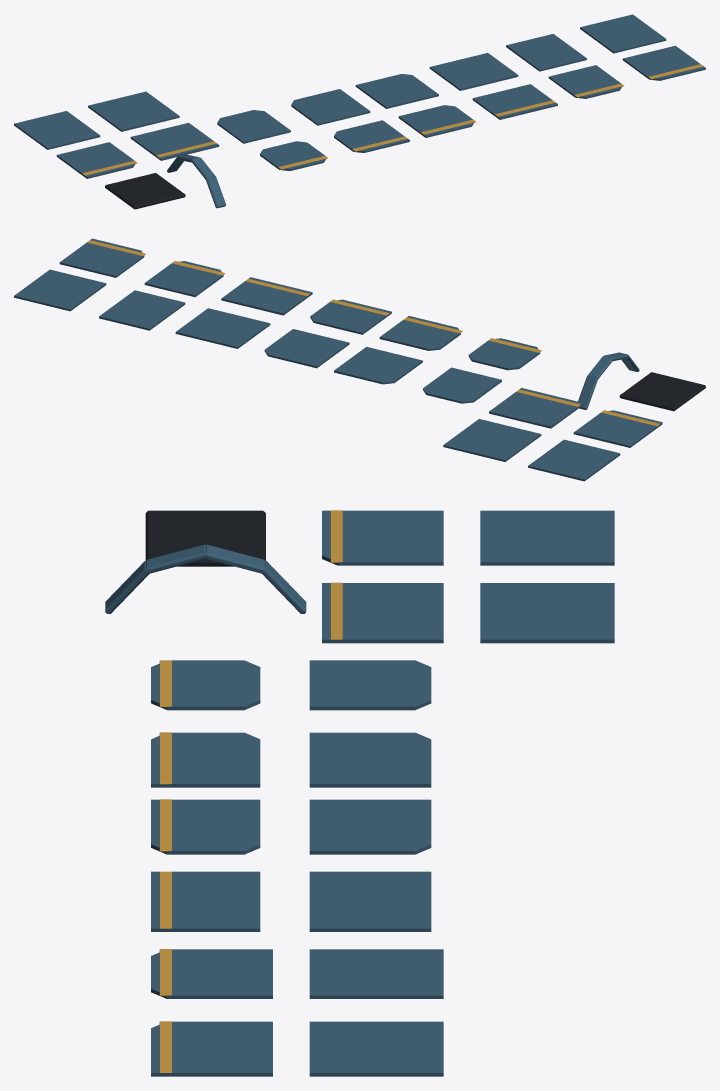
The model's file is R4H_HullKit.glb.
The picture shows the model from 3 angles, top to bottom: view 1: azimuth 30°, elevation 25°; view 2: azimuth 150°, elevation 25°; view 3: azimuth 270°, elevation 25°; orthographic projection. The views are drawn at different scales.
Visible parts, largest first — view 1: plate_15, plate_11, plate_07, plate_13, plate_14, plate_03, plate_05, plate_06, plate_10, plate_09, plate_12, gasket (+6 smaller); view 2: plate_15, plate_07, plate_11, plate_13, plate_14, plate_03, plate_06, plate_09, plate_05, plate_10, plate_12, gasket (+6 smaller); view 3: plate_15, plate_14, plate_13, plate_11, plate_07, plate_10, plate_09, plate_05, plate_06, plate_12, plate_03, plate_08 (+6 smaller).
Part boxes in pixels (x1,y1,x2,y2): plate_15: (88,91,179,131); plate_11: (429,53,518,90); plate_07: (130,122,219,160); plate_13: (580,14,666,53); plate_14: (14,111,100,149); plate_03: (472,84,557,119); plate_05: (622,45,705,80); plate_06: (56,142,137,178); plate_10: (355,74,438,108); plate_09: (291,89,370,125); plate_12: (506,34,586,71); gasket: (105,173,185,209); plate_15: (443,419,541,461); plate_07: (489,388,583,428); plate_11: (175,308,270,348); plate_13: (14,269,106,311); plate_14: (528,439,620,481); plate_03: (221,277,312,315); plate_06: (573,410,662,447); plate_09: (334,347,422,384); plate_05: (59,238,145,277); plate_10: (264,329,349,368); plate_12: (99,290,185,330); gasket: (619,372,705,411); plate_15: (480,583,614,643); plate_14: (480,510,614,565); plate_13: (309,1021,443,1076); plate_11: (309,871,431,931); plate_07: (322,582,443,643); plate_10: (309,799,431,854); plate_09: (309,732,431,787); plate_05: (151,1021,272,1076); plate_06: (322,510,443,565); plate_12: (309,949,443,998); plate_03: (151,871,260,931); plate_08: (309,660,431,710).
Size of the model in its own units: 5.45 by 0.2795 by 2.09.
